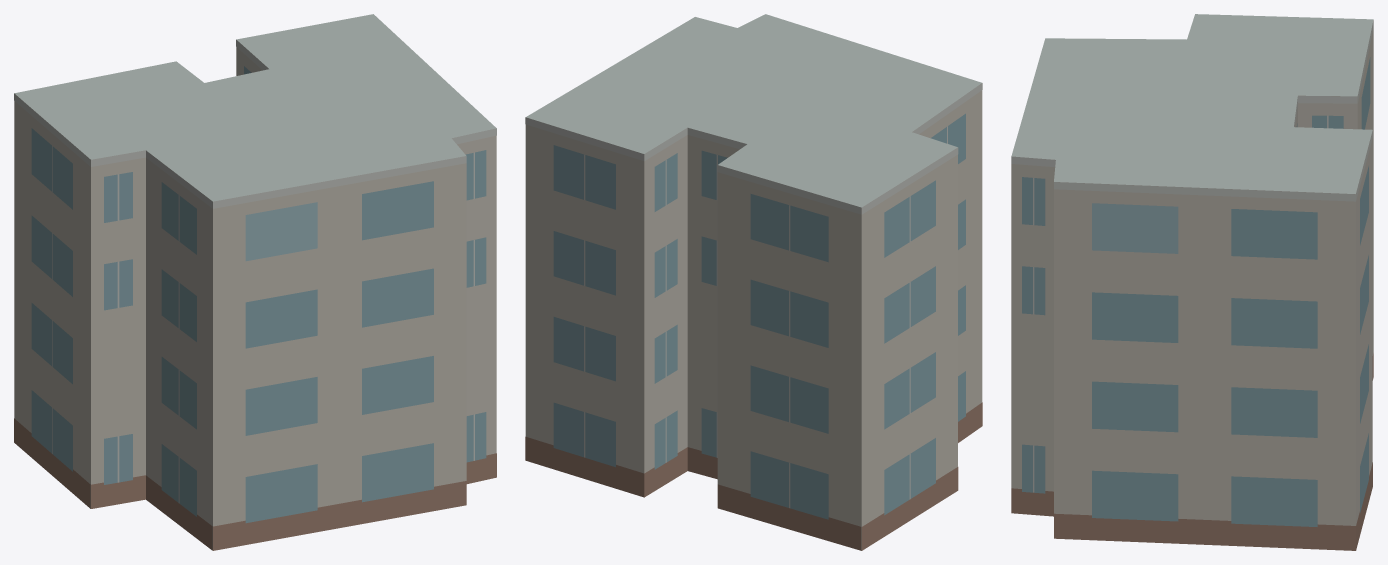
File: survey-upis-32584536.glb
3 renders of one model, left to right at view 1: azimuth 30°, elevation 25°; view 2: azimuth 150°, elevation 25°; view 3: azimuth 270°, elevation 25°, orthographic. The views are drawn at different scales.
Parts seen in each view (by area): view 1: survey-upis-32584536.tmp; view 2: survey-upis-32584536.tmp; view 3: survey-upis-32584536.tmp.
Part boxes in pixels (left/top/right/bottom): survey-upis-32584536.tmp: left=14, top=14, right=496, bottom=550; survey-upis-32584536.tmp: left=525, top=14, right=982, bottom=550; survey-upis-32584536.tmp: left=1011, top=14, right=1373, bottom=550.
Size of the model in its own units: 12.68 by 11.7 by 10.78.
